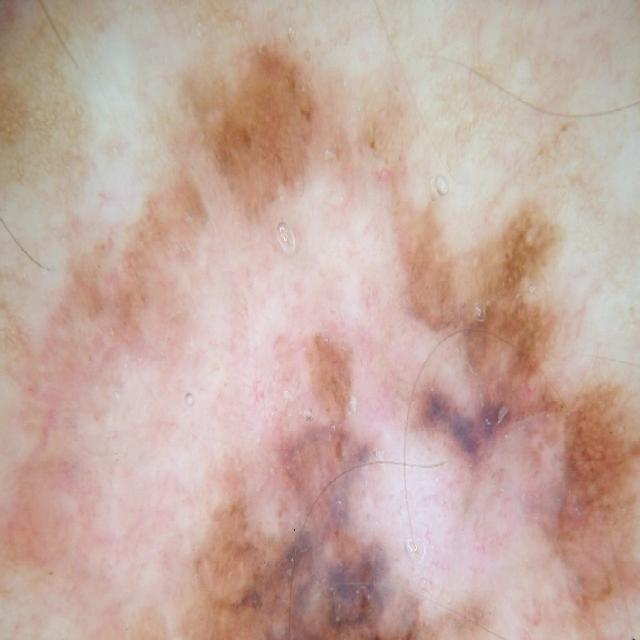Melanoma: (18, 71, 494, 640)
